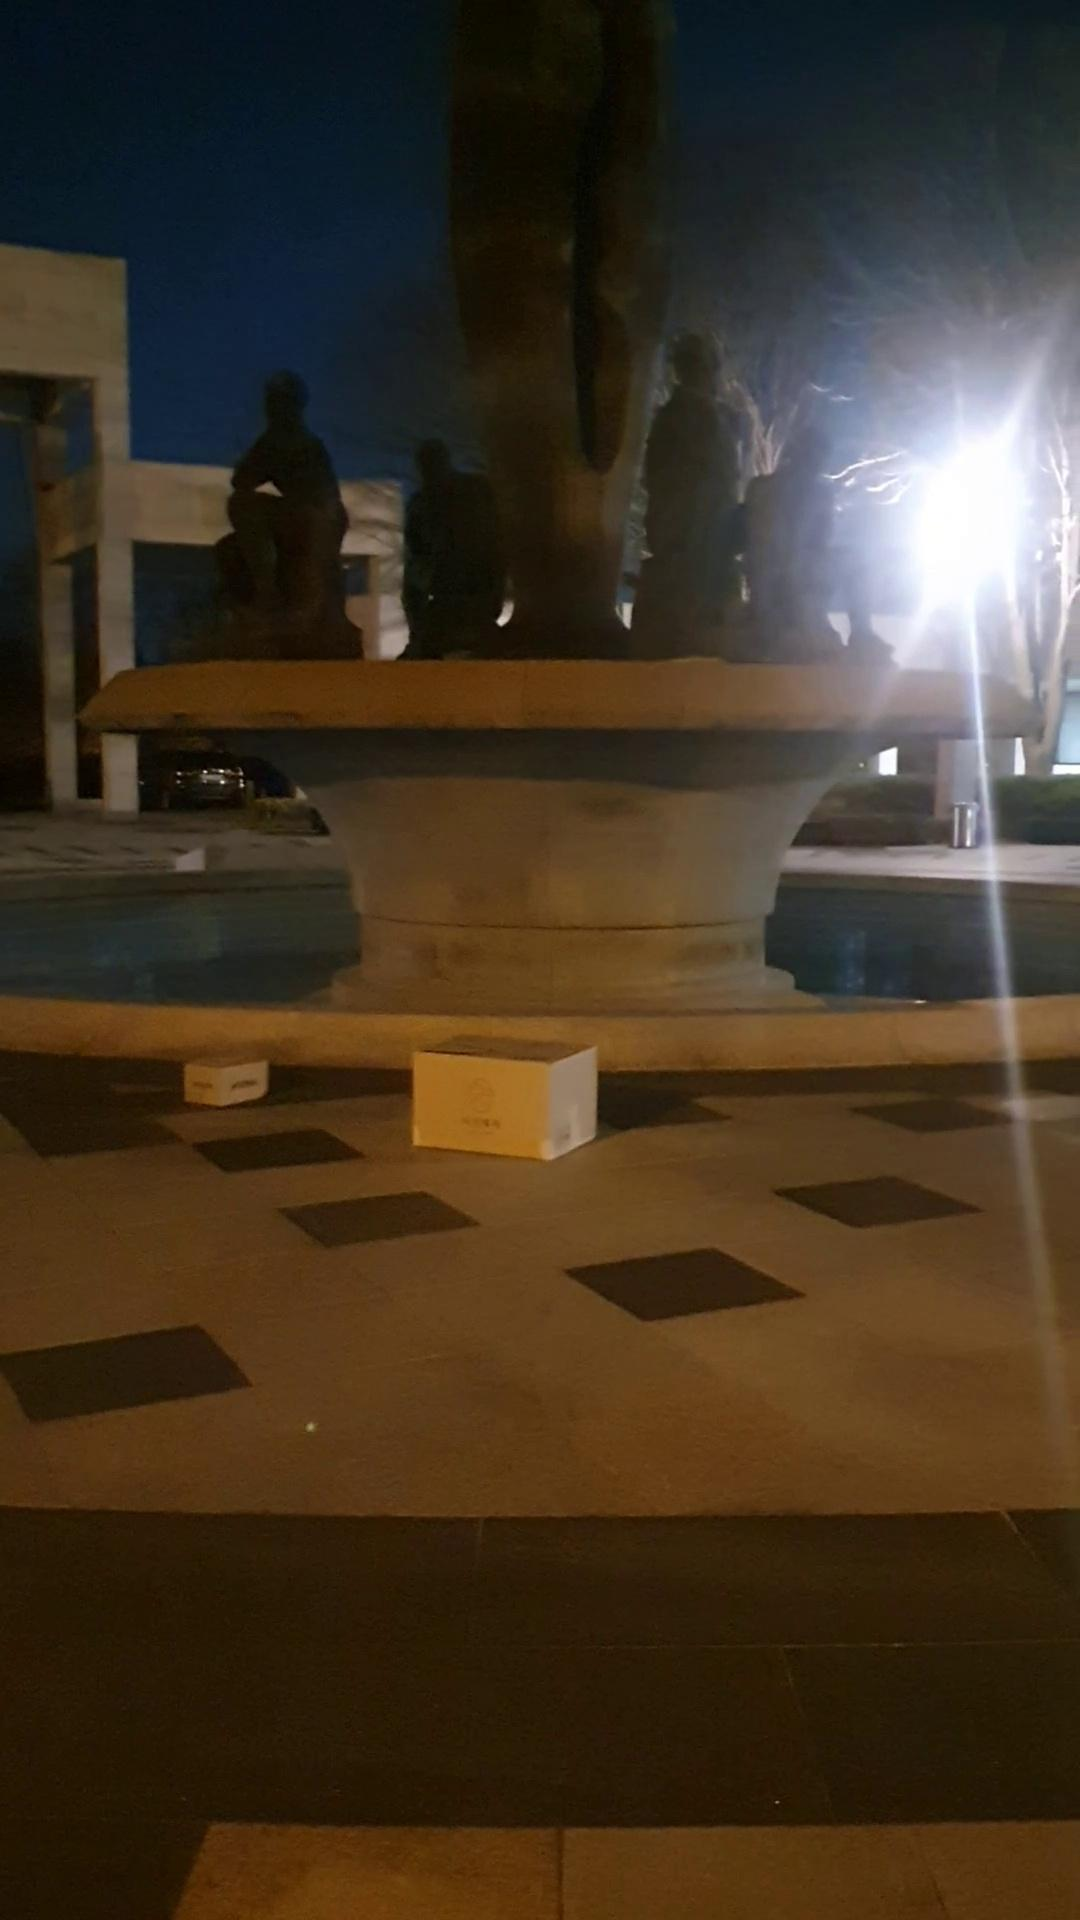Box: (401, 1029, 613, 1158), (166, 1043, 273, 1118)
